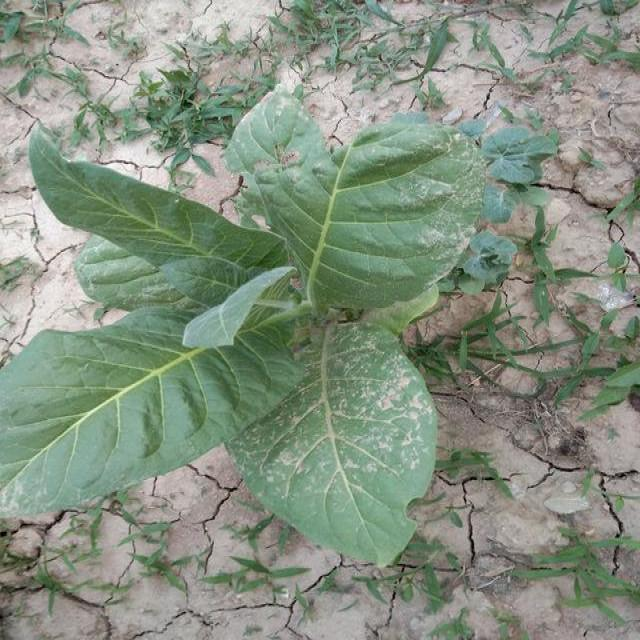crop: (1, 78, 479, 586)
